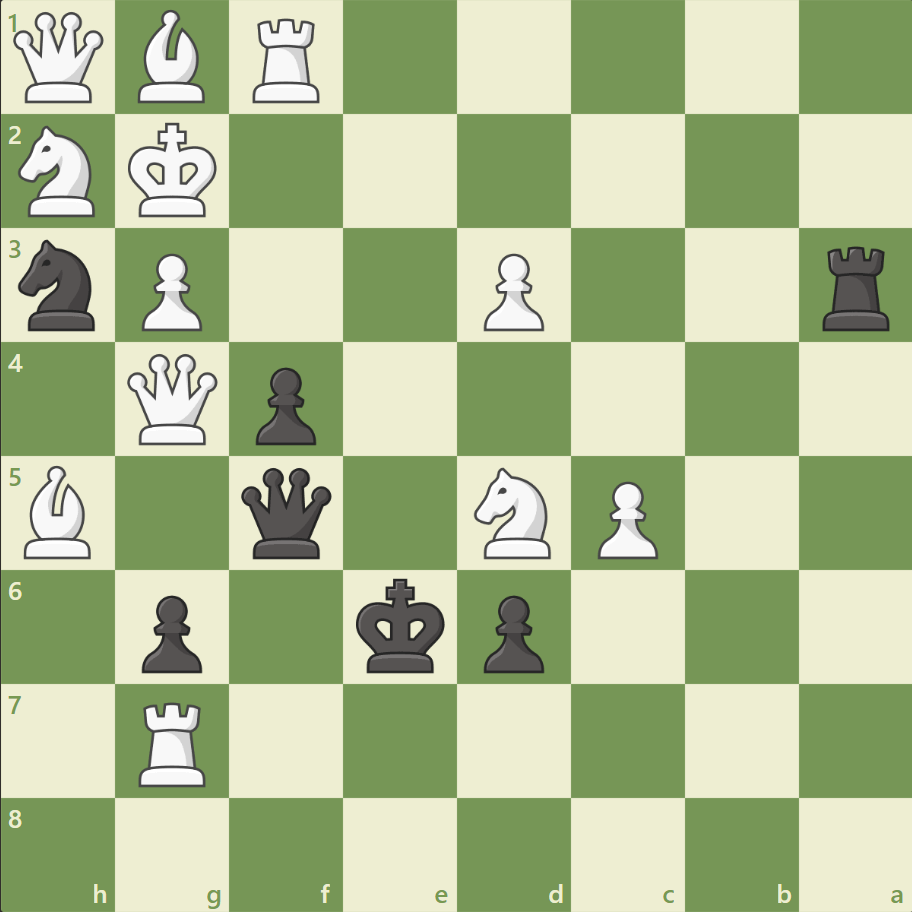B: (17, 460, 101, 563), (131, 6, 215, 109)
K: (124, 117, 224, 225)
N: (465, 461, 562, 564), (11, 121, 108, 223)
P: (474, 246, 549, 337), (133, 246, 208, 337), (588, 473, 662, 564)
Q: (124, 349, 223, 449), (10, 9, 109, 108)
R: (246, 12, 329, 109), (133, 693, 215, 790)
k: (351, 571, 451, 679)
n: (11, 234, 108, 337)
p: (474, 586, 549, 677), (133, 586, 208, 677), (247, 359, 322, 450)
q: (237, 463, 336, 562)
r: (814, 239, 897, 336)
